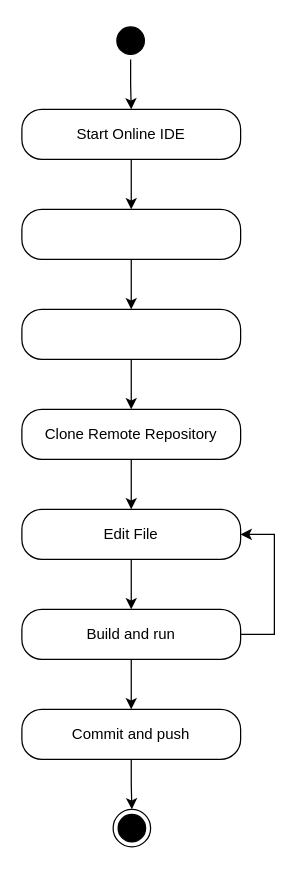
This 306x869 diagram has some shape labels left out. The centre of each missing label's shape, as x and y in pixels:
Change Preferences: point 131,233
Install Extensions: point 131,333
